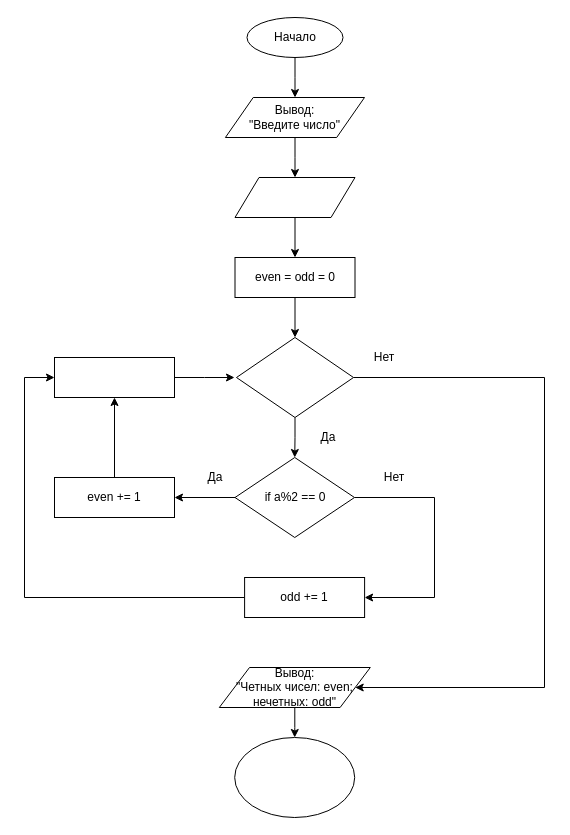
Some shapes in this 570 by 835 pixel diagram are drawn without their labels. The shapes that lost their labels are listed below. From the top down, each one's box as (x1, y1, x2, y2) in pixels, then its label:
(234, 176, 355, 218): Ввод: a;
(54, 356, 174, 398): a = a // 10
(236, 336, 354, 418): While a > 0
(234, 736, 355, 818): Конец
